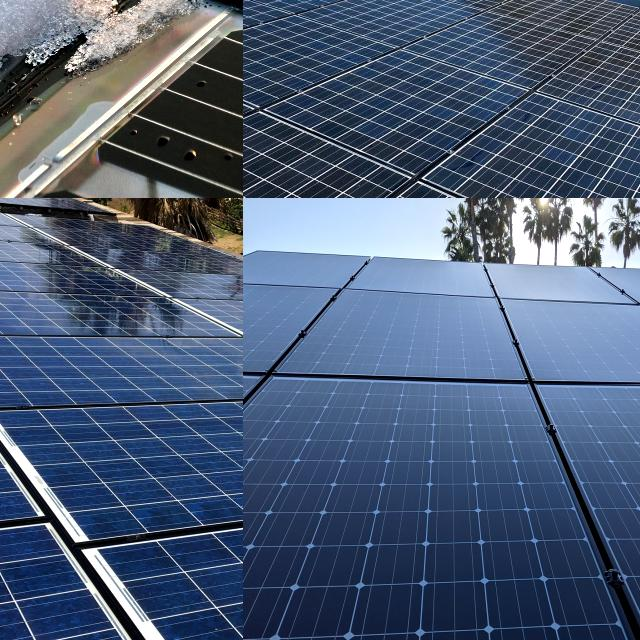crack: (0, 403, 243, 549), (270, 290, 551, 408), (498, 295, 640, 397), (525, 380, 640, 494), (331, 578, 452, 640), (583, 448, 640, 573), (264, 583, 380, 640), (406, 574, 504, 640), (474, 572, 567, 640), (358, 530, 432, 603), (532, 572, 618, 630), (412, 541, 505, 594), (244, 506, 330, 560), (243, 540, 321, 598), (310, 508, 392, 553), (472, 615, 579, 640), (547, 612, 640, 640), (415, 622, 507, 640)
dust: (414, 79, 611, 198)
panel: (0, 34, 130, 198), (0, 0, 137, 136), (0, 0, 122, 108), (0, 0, 187, 59), (147, 0, 243, 92)
